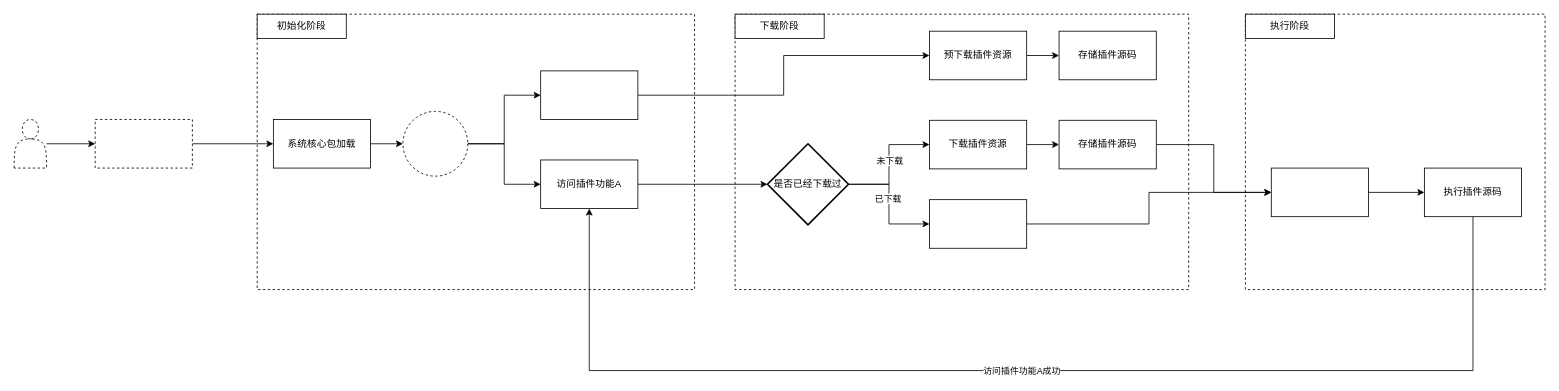
Image size: 1559x391. Some labels were removed from this diagram. Here are the shapes that lost their labels. From the top down, the box of each, then its label:
(540, 70, 638, 119): 预加载功能插件
(94, 119, 192, 168): 访问系统
(402, 111, 468, 176): 空闲状态
(1270, 167, 1368, 217): 构造JS沙箱
(929, 199, 1027, 248): 取出插件源码
